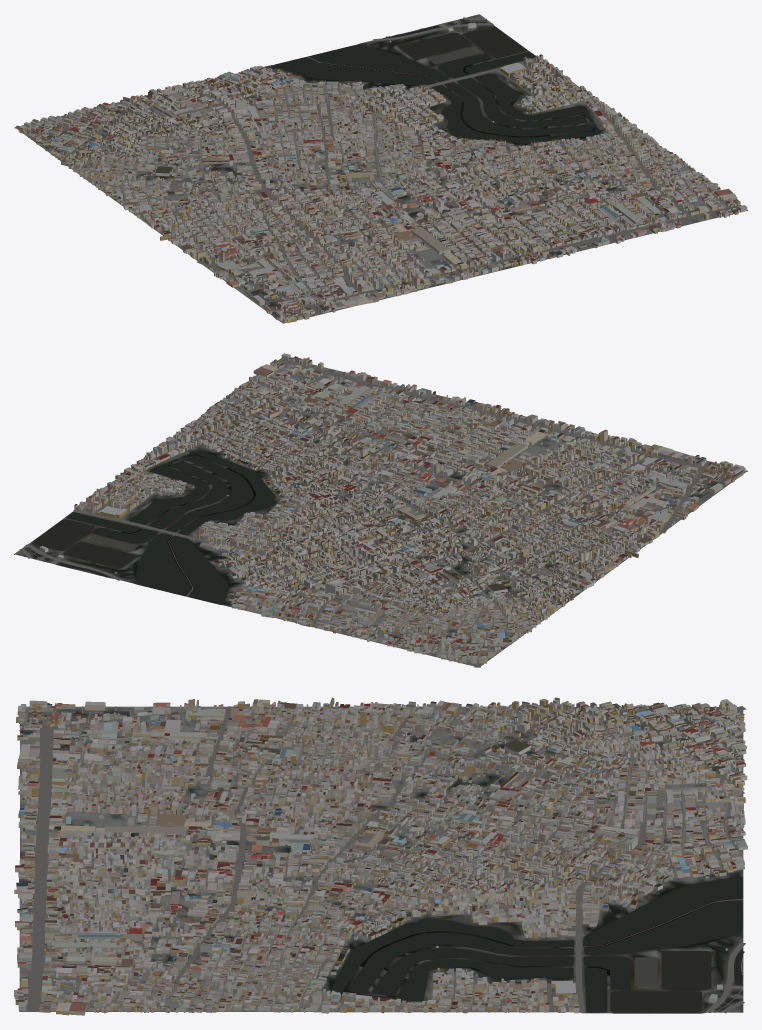
The picture shows the model from 3 angles, top to bottom: view 1: azimuth 30°, elevation 25°; view 2: azimuth 150°, elevation 25°; view 3: azimuth 270°, elevation 25°; orthographic projection. The views are drawn at different scales.
Parts seen in each view (by area): view 1: buildings, ground, water, roads; view 2: buildings, ground, water, roads; view 3: buildings, ground, water, roads.
Part boxes in pixels (left/top/right/bottom): buildings: left=19, top=22, right=747, bottom=322; ground: left=17, top=14, right=747, bottom=323; water: left=274, top=25, right=602, bottom=143; roads: left=14, top=17, right=741, bottom=323; buildings: left=39, top=353, right=745, bottom=663; ground: left=14, top=358, right=747, bottom=666; water: left=32, top=449, right=275, bottom=604; roads: left=19, top=359, right=746, bottom=667; buildings: left=14, top=697, right=747, bottom=1015; ground: left=19, top=706, right=743, bottom=1013; water: left=330, top=877, right=744, bottom=1012; roads: left=19, top=706, right=746, bottom=1013.
Bounding box in the file's own units: 1436 × 32.46 × 1421.
